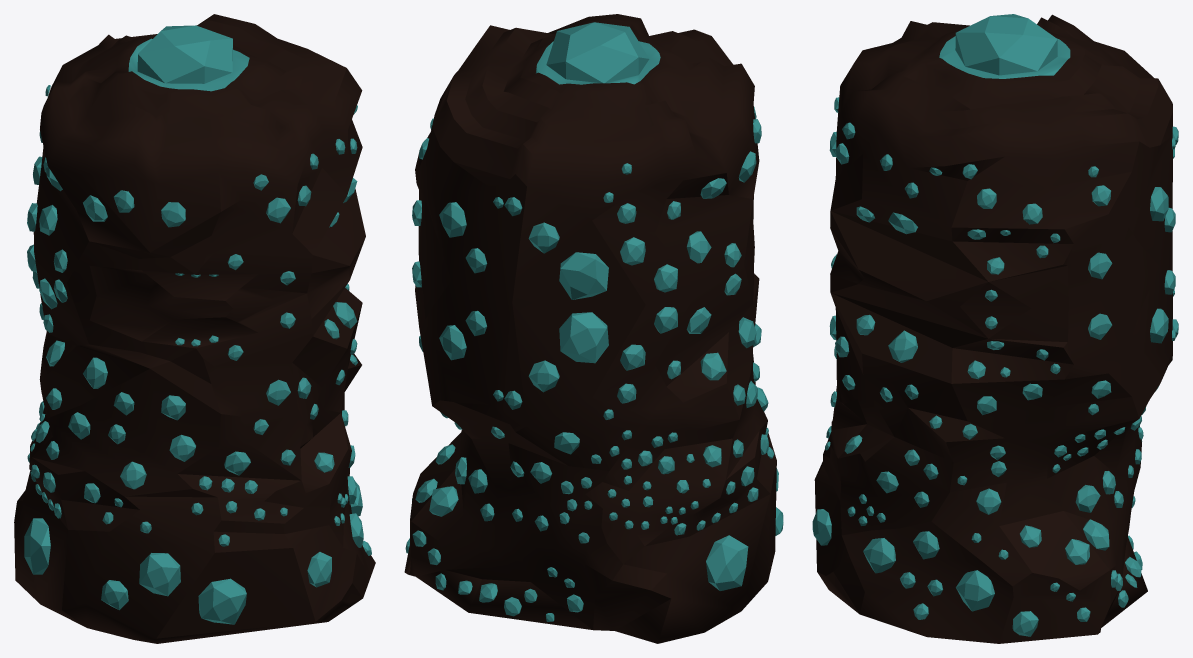
The model's file is Gem_7_Cup.fbx.
The picture shows the model from 3 angles, left to right: view 1: azimuth 30°, elevation 25°; view 2: azimuth 150°, elevation 25°; view 3: azimuth 270°, elevation 25°; orthographic projection.
Parts seen in each view (by area): view 1: Rock_7_SoL, Vert.033, Vert.035, Vert.032, Vert.034, Vert.036, Vert.048, Vert.145, Vert.146, Vert.187; view 2: Rock_7_SoL, Vert.054, Vert.193, Vert.032, Vert.167, Vert.025, Vert.007, Vert.005, Vert.178, Vert.202, Vert.082, Vert.190 (+1 smaller); view 3: Rock_7_SoL, Vert.021, Vert.020, Vert.013, Vert.034, Vert.005, Vert.019, Vert.167, Vert.114, Vert.007, Vert.113.
Part boxes in pixels (x1,y1,x2,y2): Rock_7_SoL: (14,14,375,643); Vert.033: (198,578,246,624); Vert.035: (139,553,180,596); Vert.032: (24,518,50,574); Vert.034: (307,552,331,587); Vert.036: (101,580,128,610); Vert.048: (83,357,107,388); Vert.145: (120,461,146,489); Vert.146: (169,434,195,461); Vert.187: (161,202,185,227); Rock_7_SoL: (404,14,776,643); Vert.054: (559,312,608,363); Vert.193: (559,252,608,299); Vert.032: (706,535,748,590); Vert.167: (439,202,466,237); Vert.025: (528,360,559,392); Vert.007: (439,325,466,360); Vert.005: (429,486,458,516); Vert.178: (528,222,559,253); Vert.202: (620,237,645,265); Vert.082: (700,352,726,380); Vert.190: (686,231,711,263); Rock_7_SoL: (814,14,1172,643); Vert.021: (956,570,994,611); Vert.020: (863,538,895,573); Vert.013: (888,330,917,362); Vert.034: (812,509,831,545); Vert.005: (1083,519,1109,550); Vert.019: (913,531,939,559); Vert.167: (1150,187,1168,221); Vert.114: (1012,611,1038,636); Vert.007: (1150,308,1168,343); Vert.113: (1065,539,1089,564).
Bounding box in the file's own units: 1525 × 2438 × 1504.
